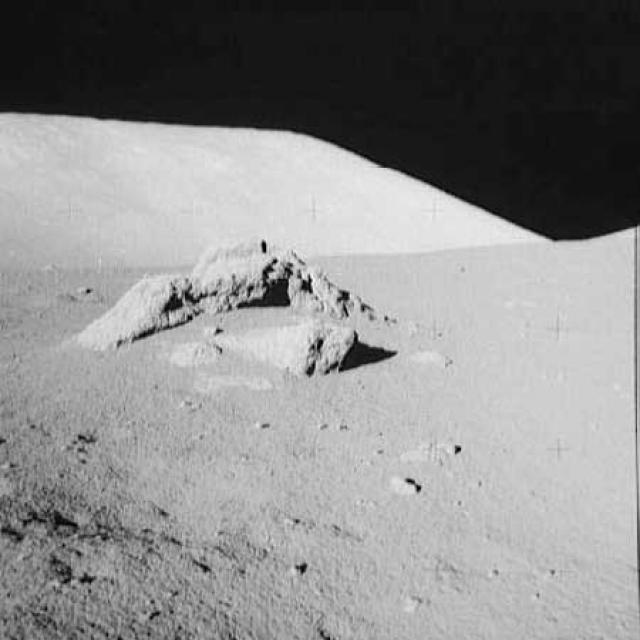rock: (69, 230, 416, 340), (234, 326, 358, 380), (169, 331, 227, 370), (404, 342, 462, 374), (380, 470, 424, 503)
